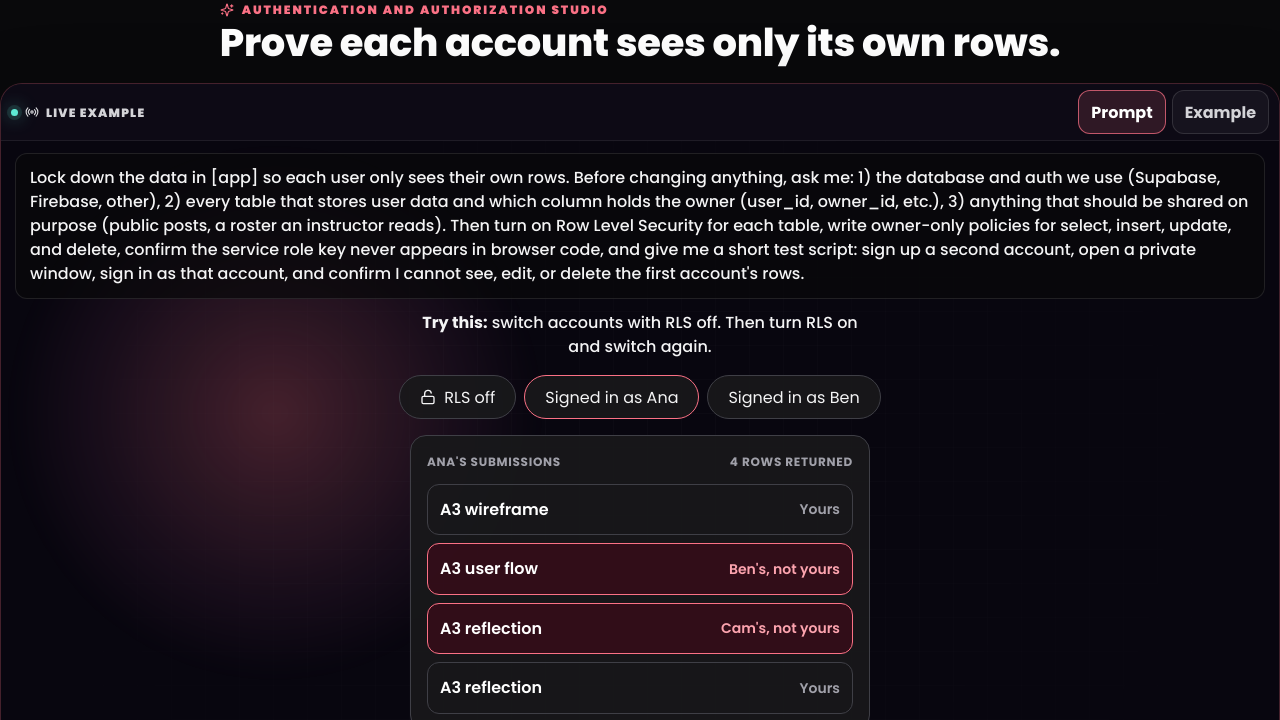
Test: Row Level Security topic › shows leaked rows with RLS off and only owned rows with RLS on
Expected: the number of list items with class "rls-scene__row" is 4, top-left (427, 484), bottom-right (853, 535); top-left (427, 543), bottom-right (853, 595); top-left (427, 603), bottom-right (853, 654); top-left (427, 662), bottom-right (853, 714)
Expected: the number of list items with class "is-leak" is 2, top-left (427, 543), bottom-right (853, 595); top-left (427, 603), bottom-right (853, 654)
What coordinates should you click on to do the following:
click the button "RLS off"
I would click on:
 (458, 397)
Its box is top-left (399, 375), bottom-right (516, 419).
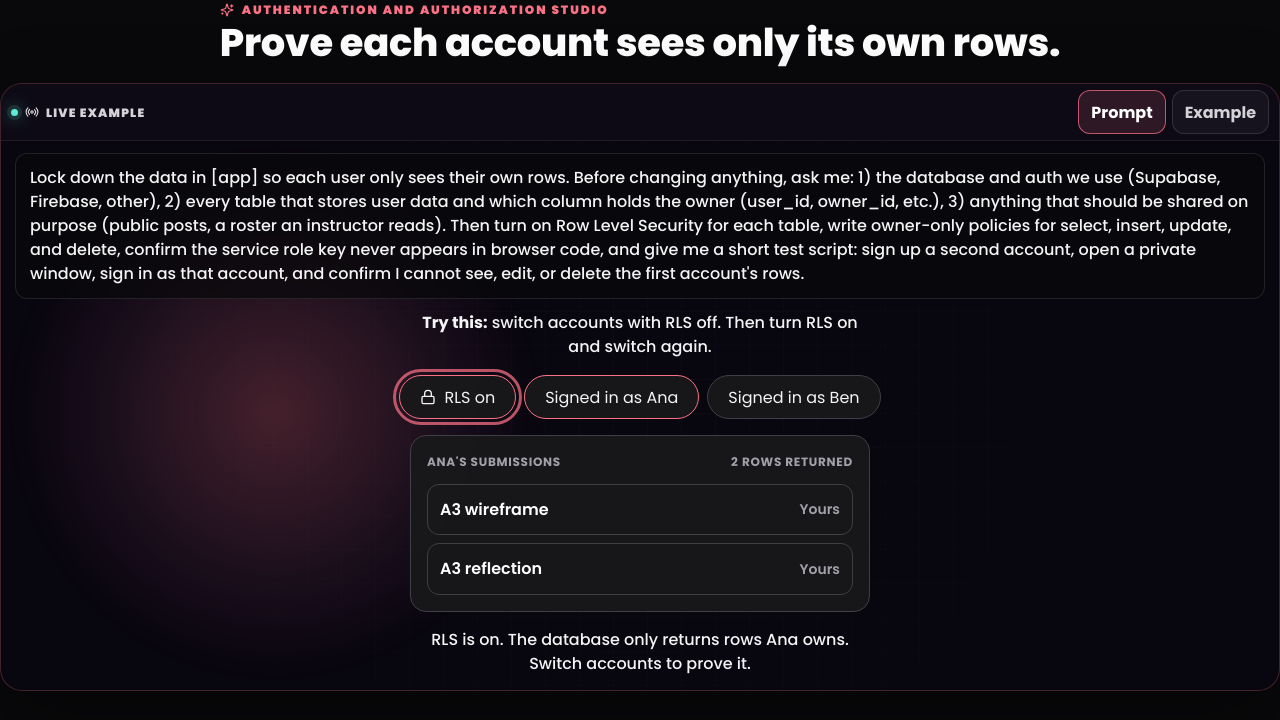
Expected: the number of list items with class "rls-scene__row" is 2, top-left (427, 484), bottom-right (853, 535); top-left (427, 543), bottom-right (853, 595)
Expected: no list items with class "is-leak" are shown
What coordinates should you click on to do the following:
click the button "Signed in as Ben"
I would click on:
 (794, 397)
Its box is top-left (707, 375), bottom-right (881, 419).
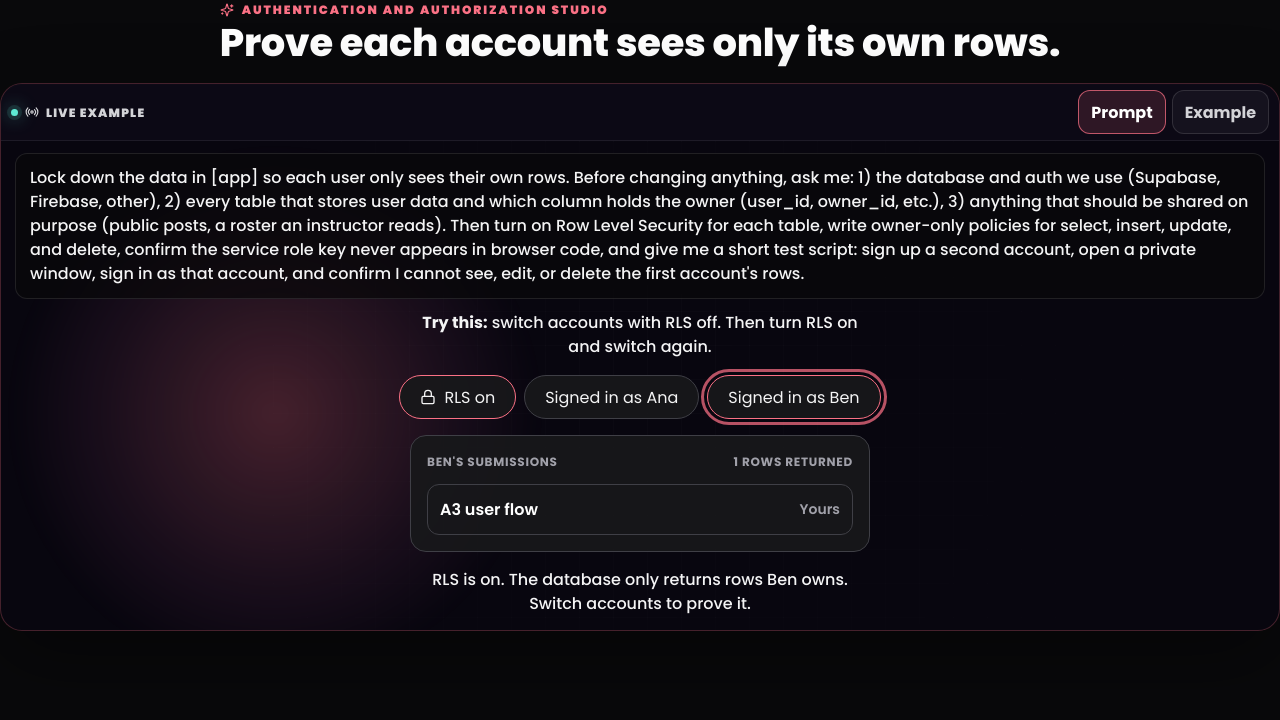
Expected: the list item with class "rls-scene__row" shows "Yours", top-left (800, 499), bottom-right (840, 519)
Expected: the list item with class "rls-scene__row" shows "A3 user flow", top-left (440, 498), bottom-right (538, 520)
